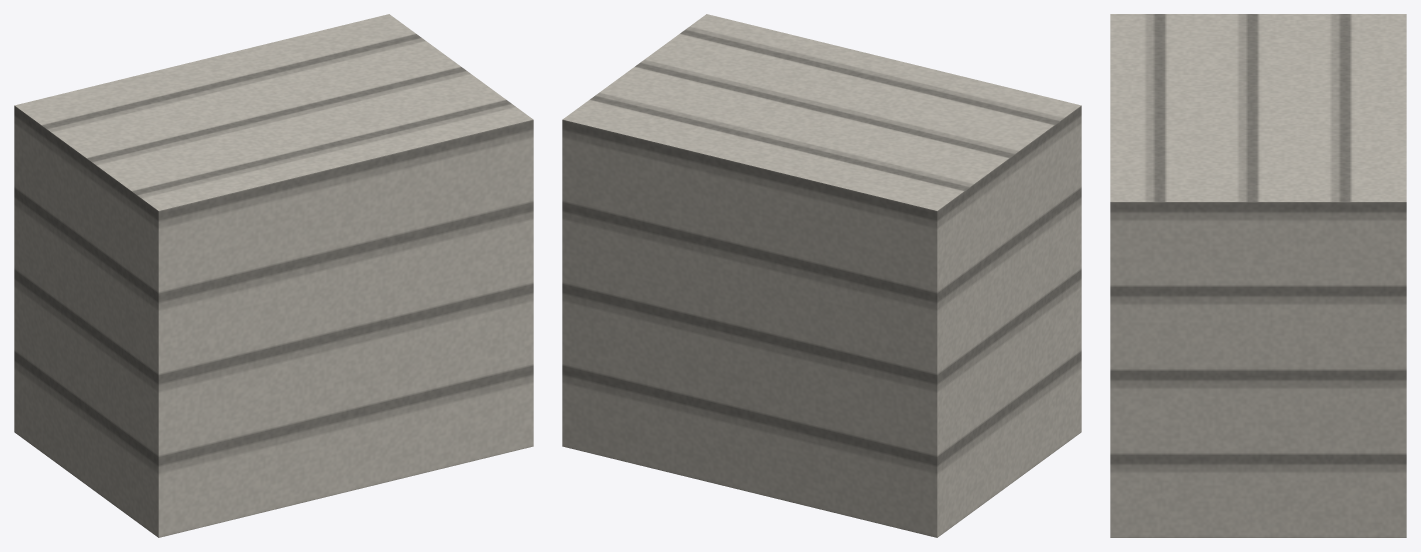
The model's file is film_projector.glb.
3 views of the same model, side by side, from view 1: azimuth 30°, elevation 25°; view 2: azimuth 150°, elevation 25°; view 3: azimuth 270°, elevation 25° (orthographic). The views are drawn at different scales.
Parts seen in each view (by area): view 1: film_projector-col; view 2: film_projector-col; view 3: film_projector-col.
Part boxes in pixels (box(x1,y1,x2,y2)): film_projector-col: box(14, 14, 533, 537); film_projector-col: box(562, 14, 1081, 537); film_projector-col: box(1110, 14, 1406, 537).
Size of the model in its own units: 0.6 by 0.5 by 0.4.
Materials: 1 (1 with a texture image).
